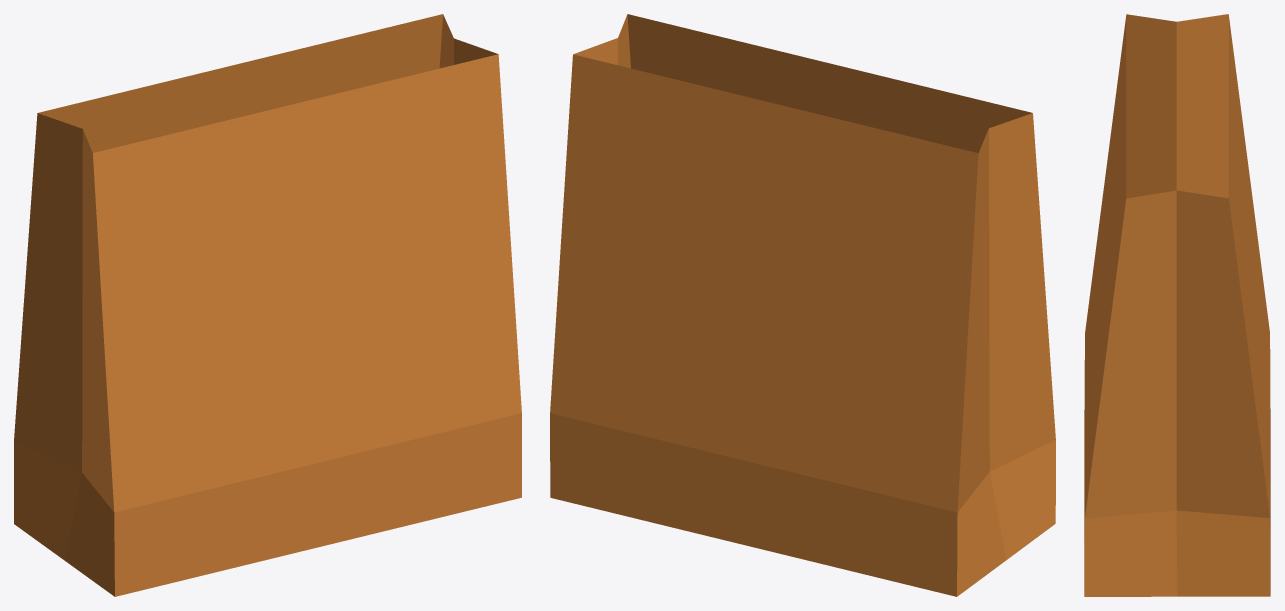
The model's file is papiertüte.glb.
The picture shows the model from 3 angles, left to right: view 1: azimuth 30°, elevation 25°; view 2: azimuth 150°, elevation 25°; view 3: azimuth 270°, elevation 25°; orthographic projection. The views are drawn at different scales.
Visible parts, largest first — view 1: Cube; view 2: Cube; view 3: Cube.
Part boxes in pixels (<box>): Cube: <box>14,14,521,596</box>; Cube: <box>550,14,1055,596</box>; Cube: <box>1084,14,1270,596</box>.
Bounding box in the file's own units: 2 × 2 × 0.8473.
